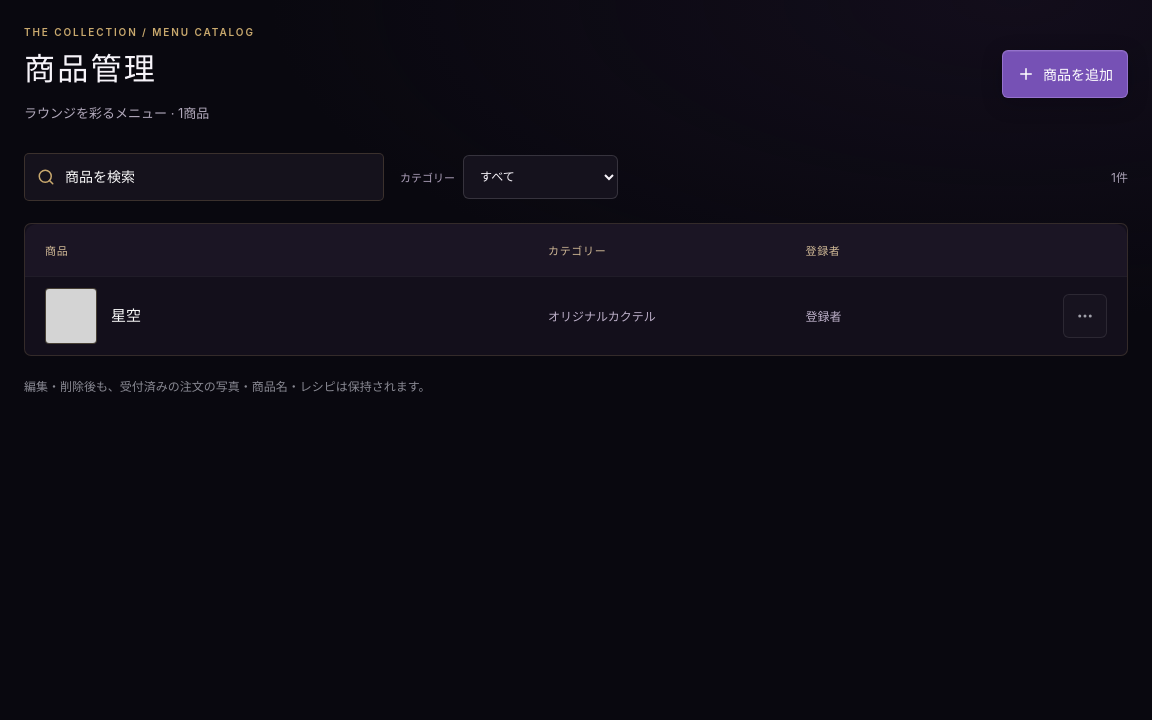
Scenario: 商品編集 › 削除の確認でキャンセルでき、明示的な確定後だけ削除する
The width and height of the screenshot is (1152, 720).
Click the button named "星空の操作" at x=1085, y=316, box x1=1063 y1=294 x2=1107 y2=338
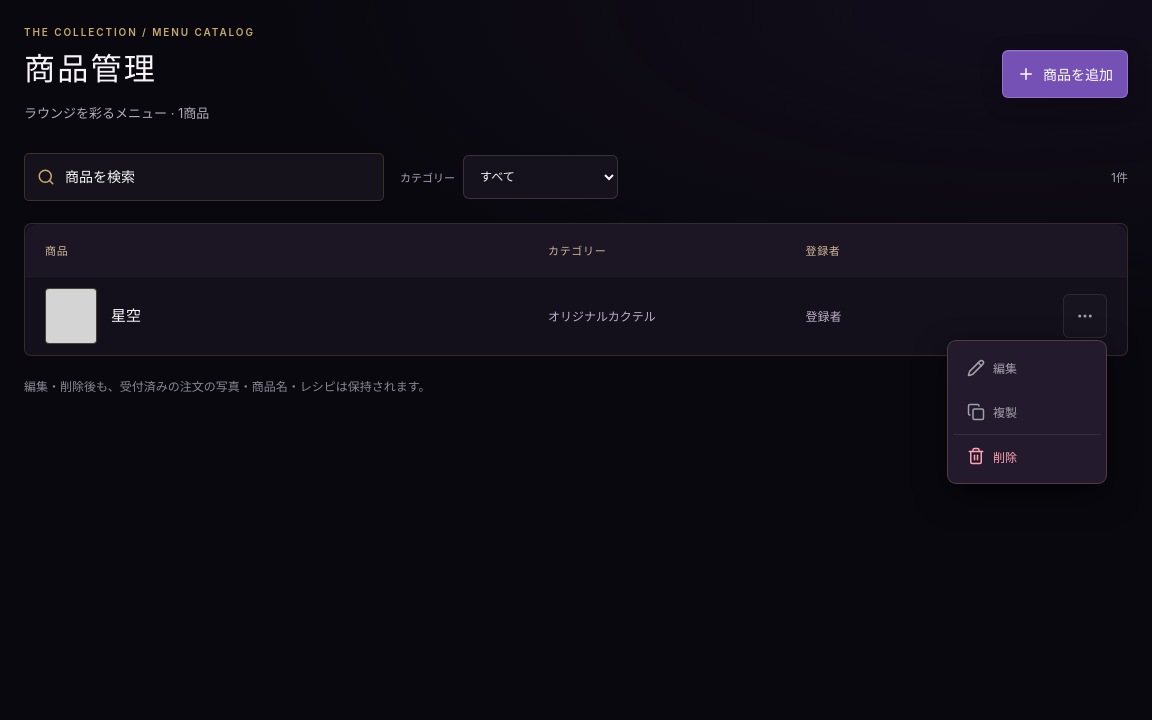
Click the button with aria-label "星空を削除" at x=1027, y=456, box x1=953 y1=434 x2=1101 y2=478
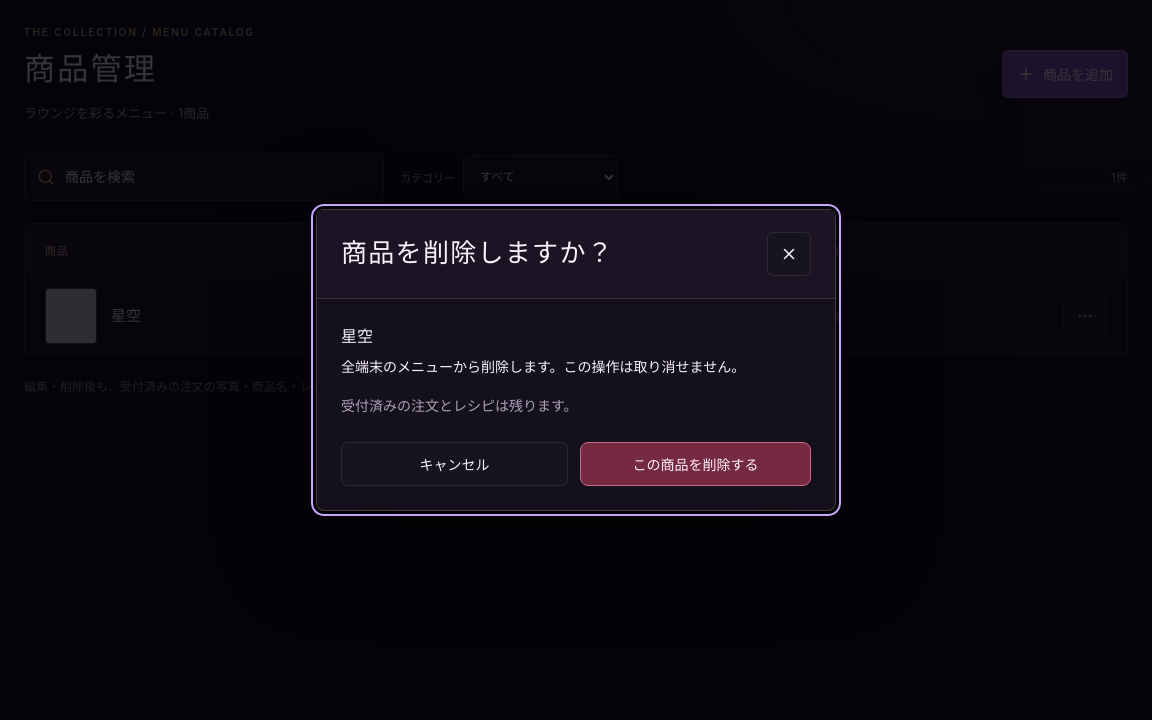
Click the button "キャンセル" at x=454, y=464, box x1=341 y1=442 x2=568 y2=486
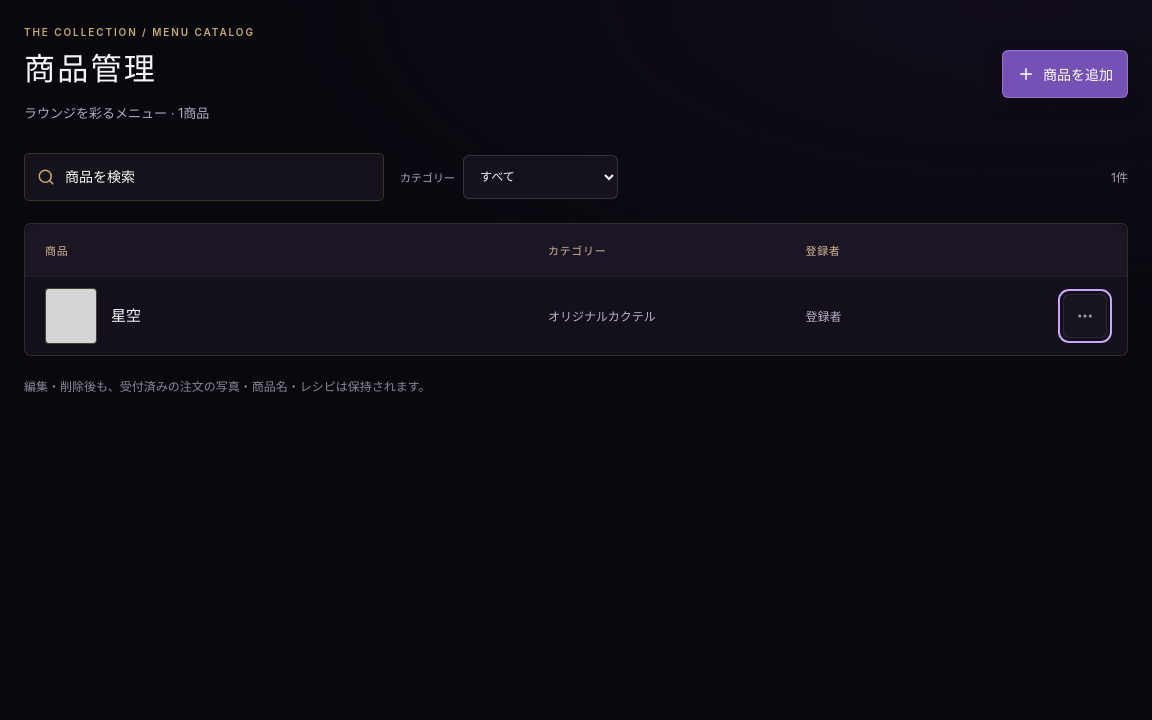
Click the button named "星空の操作" at x=1085, y=316, box x1=1063 y1=294 x2=1107 y2=338
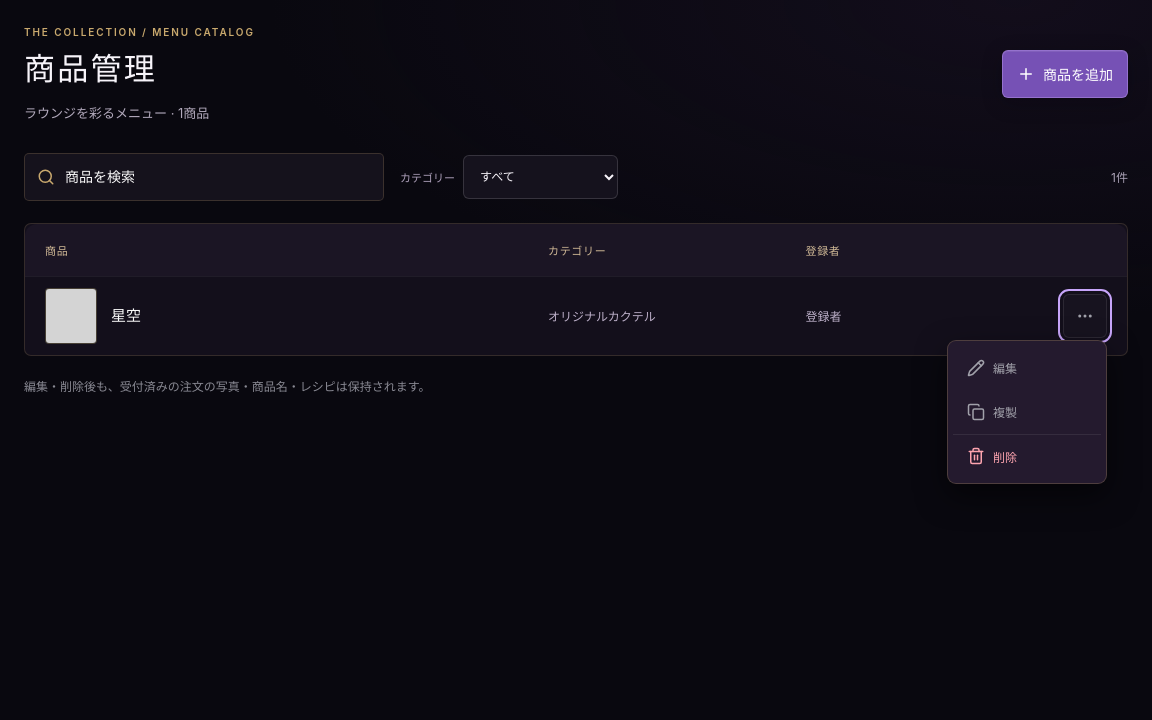
Click the button with aria-label "星空を削除" at x=1027, y=456, box x1=953 y1=434 x2=1101 y2=478
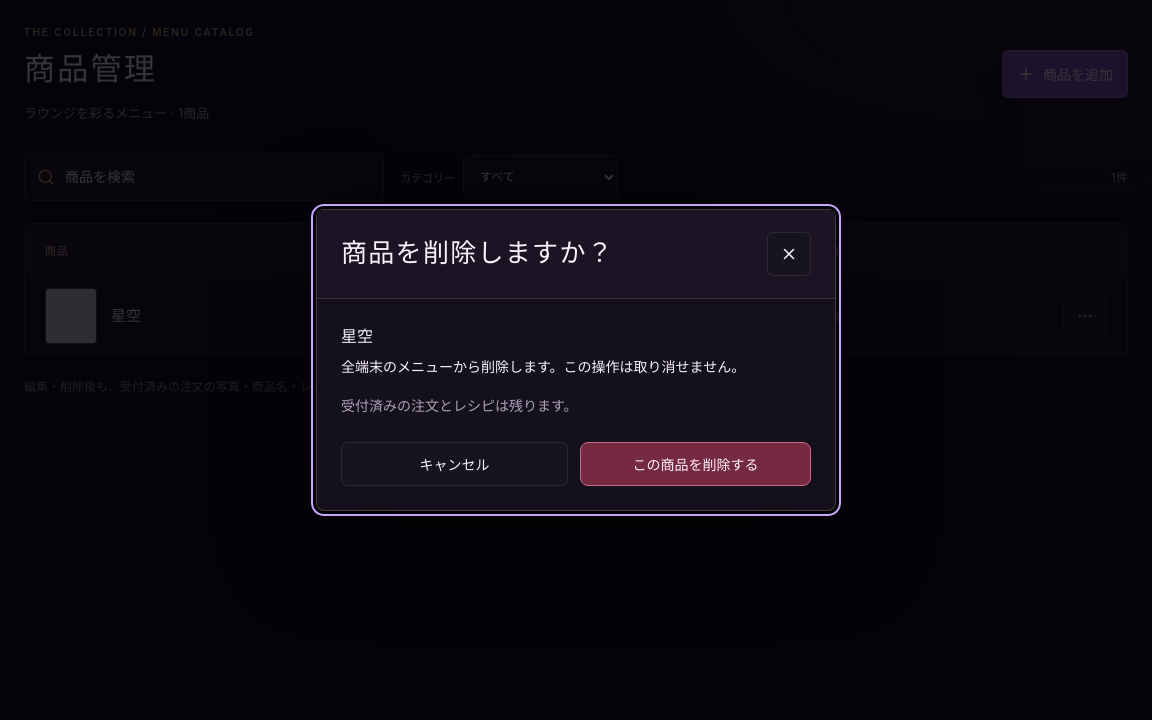
Click the button "この商品を削除する" at x=696, y=464, box x1=580 y1=442 x2=811 y2=486
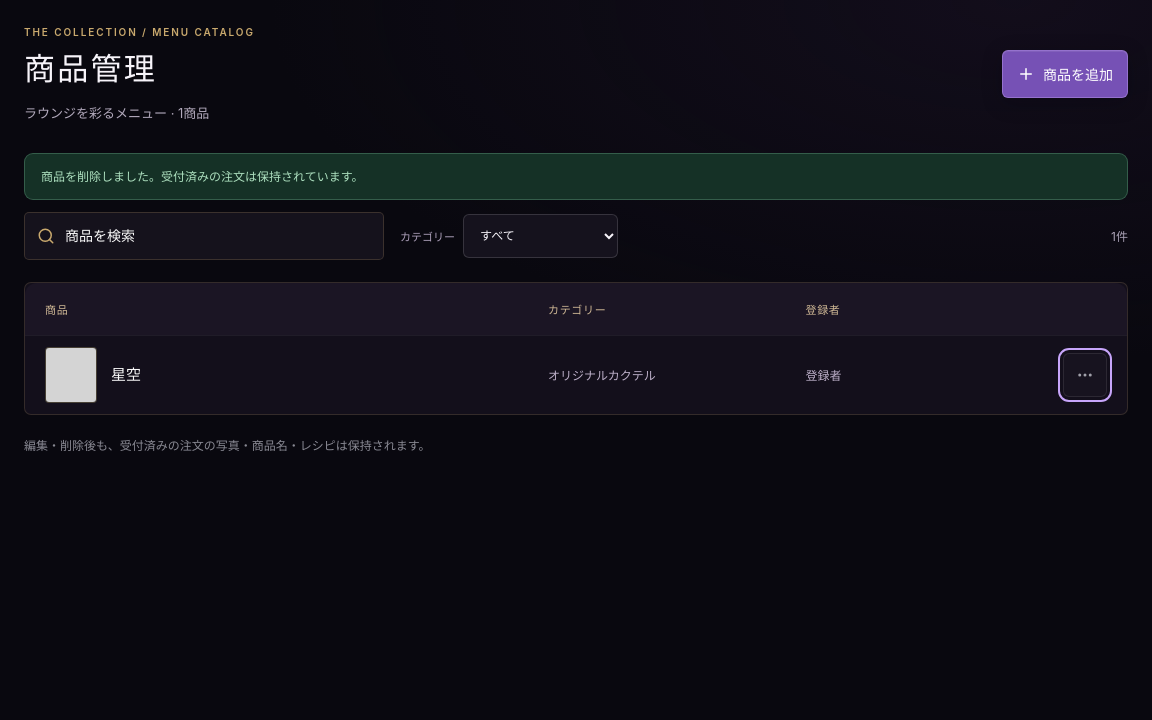
Result: the message shows "受付済みの注文は保持" at x1=41 y1=169 x2=364 y2=184
